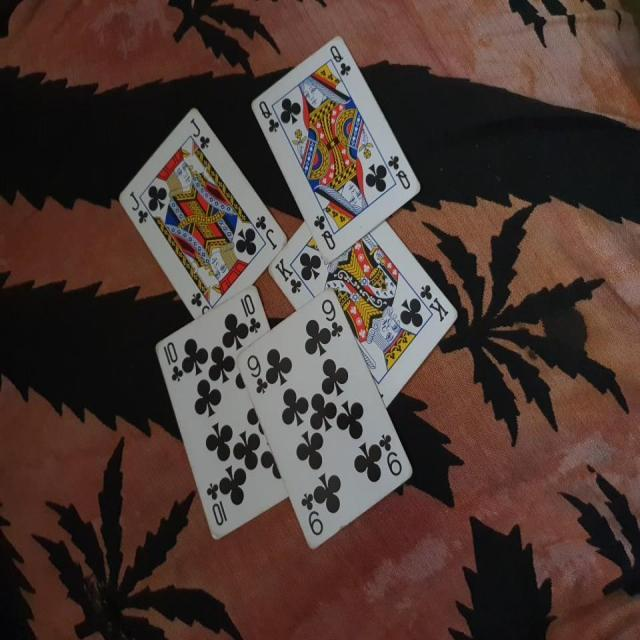10 of clubs: (148, 286, 288, 547)
9 of clubs: (236, 286, 413, 552)
jack of clubs: (117, 104, 289, 319)
king of clubs: (266, 218, 458, 408)
queen of clubs: (248, 34, 422, 260)
